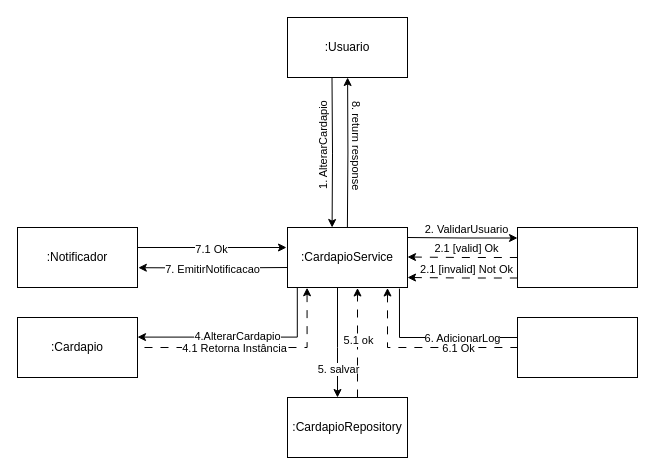
The diagram is 655 pixels wide and 475 high, and some of its shapes have lost their labels. Here are the shapes that lost their labels. From the top down, the box of each, then its label:
(516, 226, 638, 288): :AuthService
(516, 316, 638, 378): :Log
